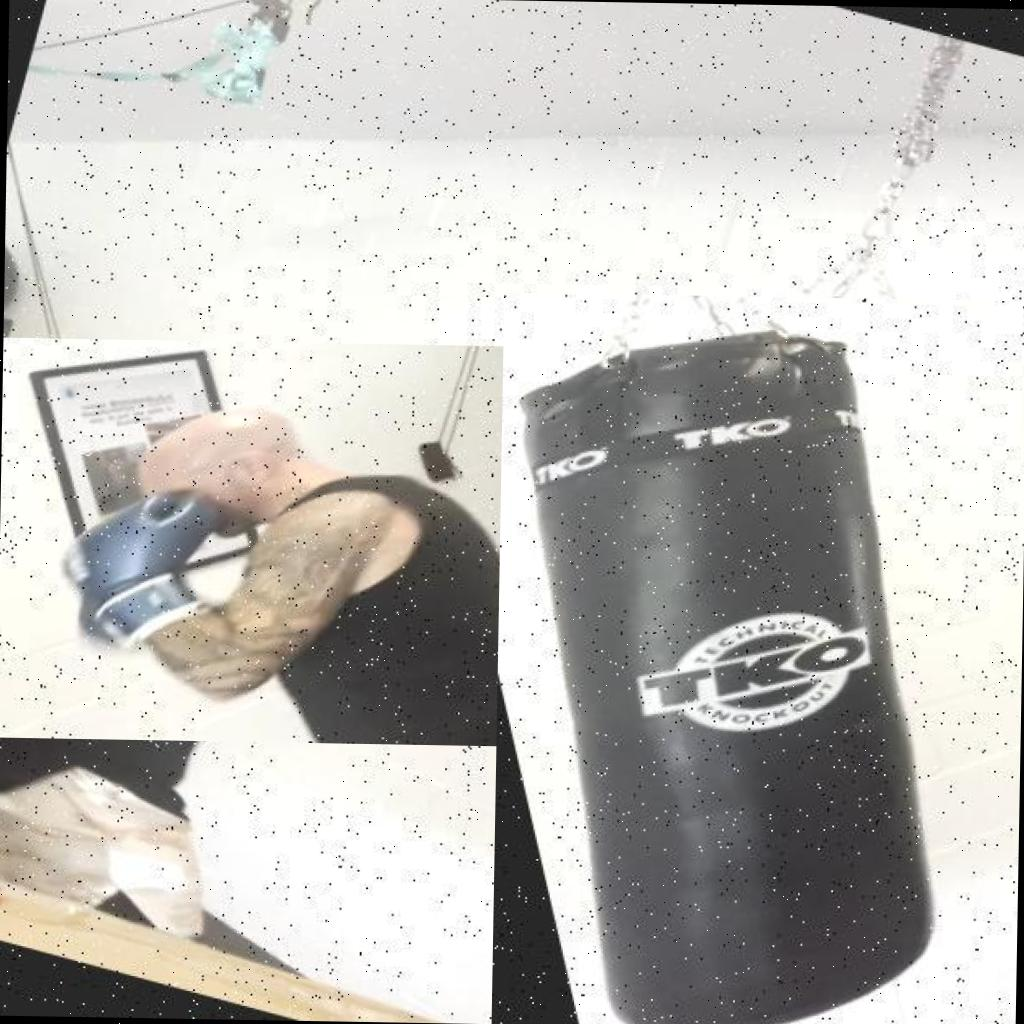bag: (491, 292, 1024, 1024)
no punch: (0, 337, 525, 746)
